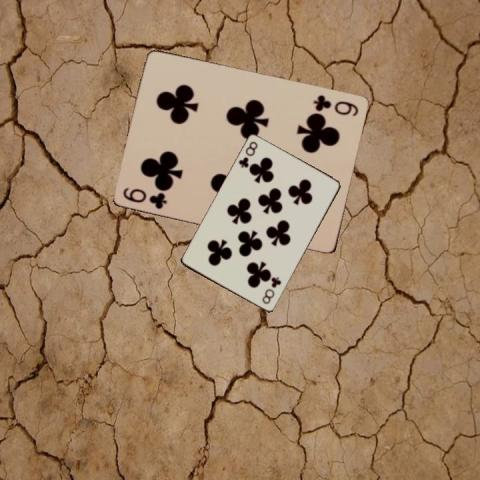6c: (120, 183, 169, 211), (311, 91, 360, 118)
8c: (259, 274, 283, 306), (236, 139, 260, 169)
